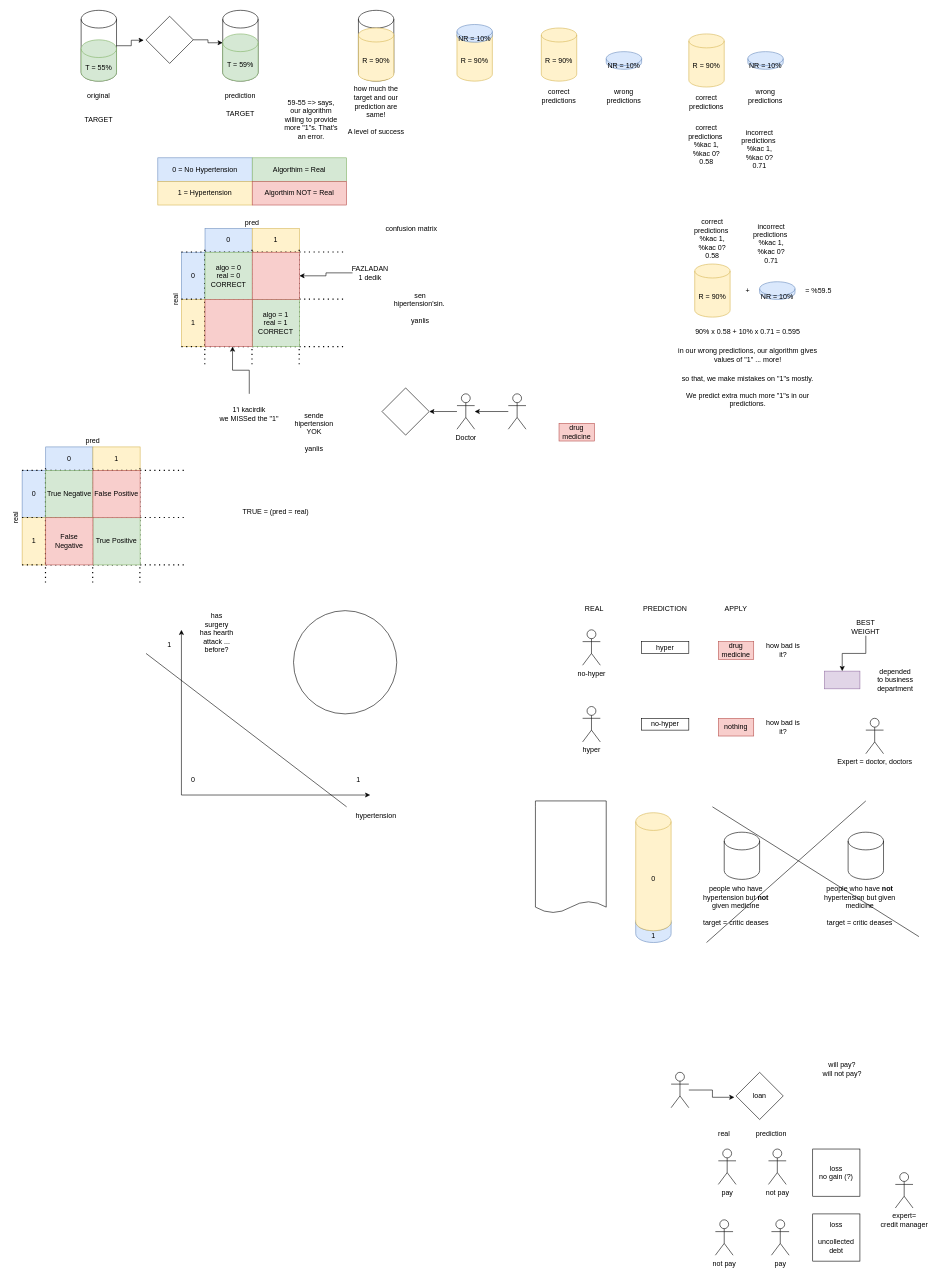
Some shapes in this 938 by 1278 pixel diagram are drawn without their labels. The centre of each missing label's shape, as x and y in pixels:
algo = 0 real = 1 INCORRECT: (x=228, y=323)
algo = 1 real = 0 INCORRECT: (x=275, y=275)
algorithm: (x=169, y=39)
business department: (x=842, y=680)
customer: (x=680, y=1090)
Patient: (x=517, y=411)
using extra hypertension drugs may kill you... 1000 ===> 3.5 life time: (x=570, y=856)
we may look for an extra criteria: (x=345, y=662)
